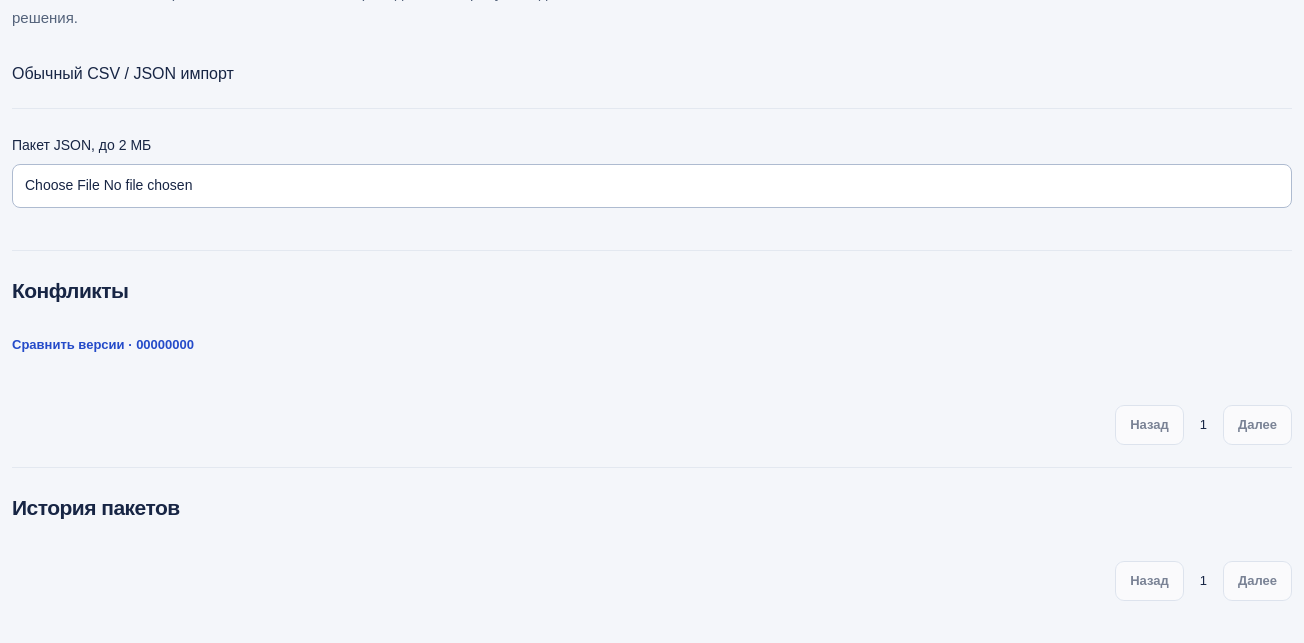
Test: content-pack editor workflow › keeps both versions available after a conflict-resolution 409
The image size is (1304, 643).
Click the button "Сравнить версии · 00000000" at {"x": 103, "y": 345}, box [12,325,194,365]
(page scrolled)
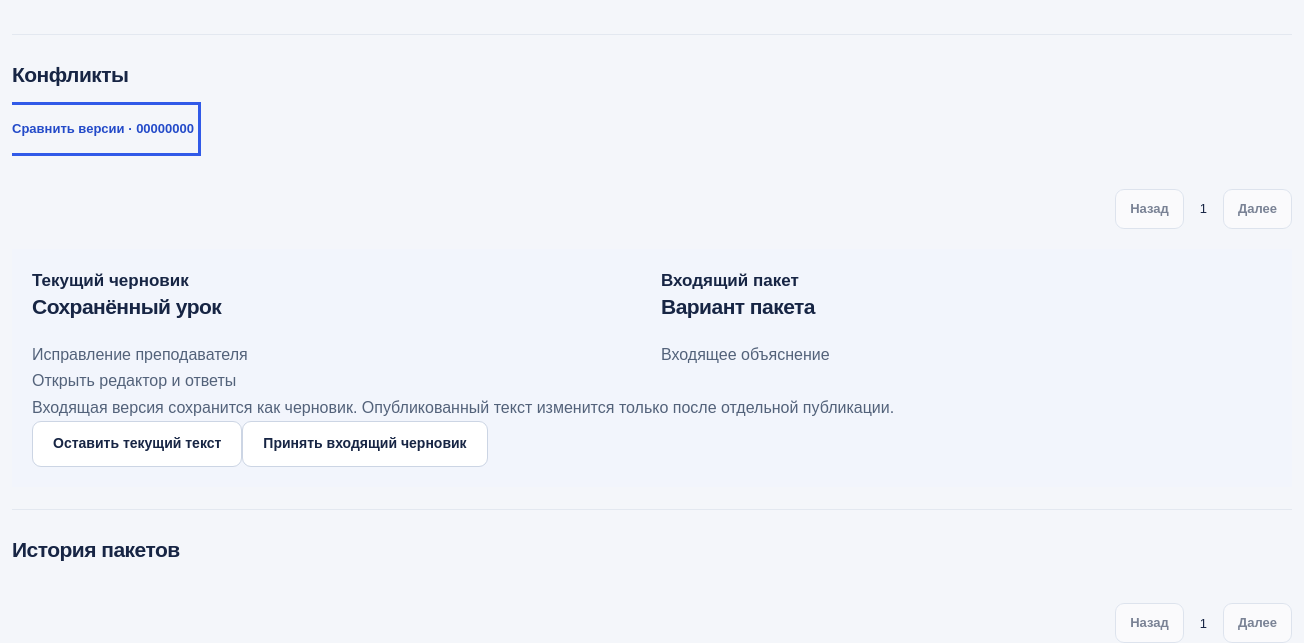
Click the button "Принять входящий черновик" at {"x": 365, "y": 444}, box [242,421,488,467]
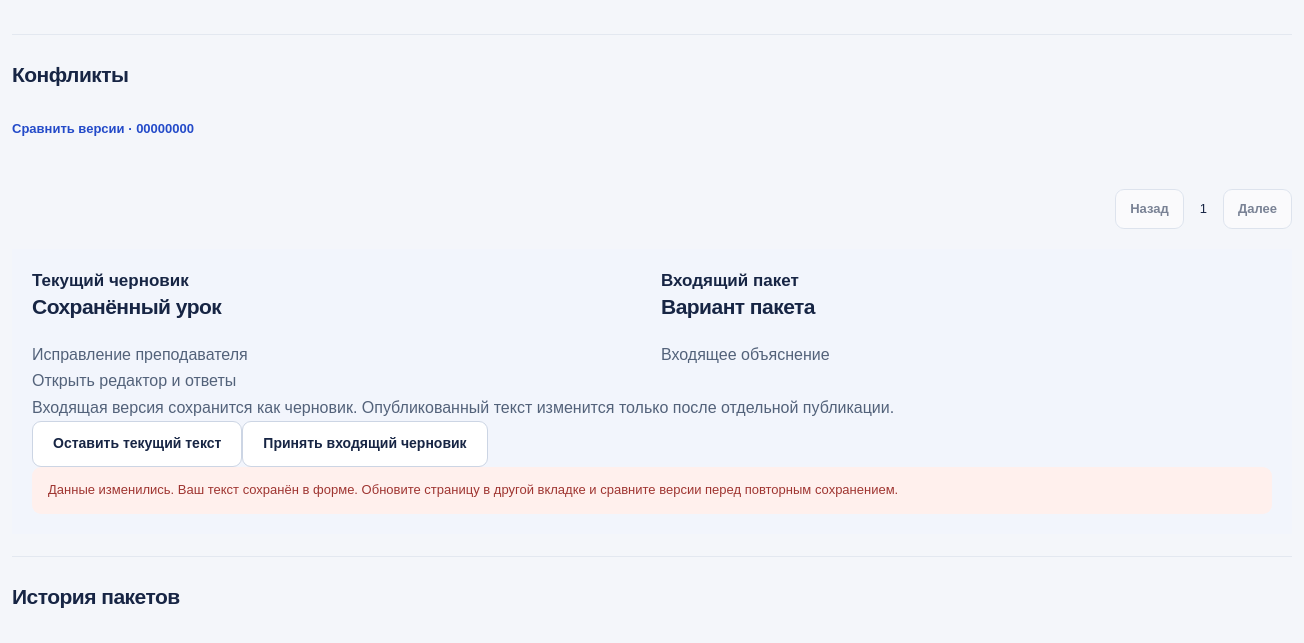
Expected: the text "Исправление преподавателя" is shown, [32,346,248,363]
Expected: the text "Входящее объяснение" is shown, [661,346,830,363]
Expected: the message shows "Данные изменились", [48,482,898,497]
